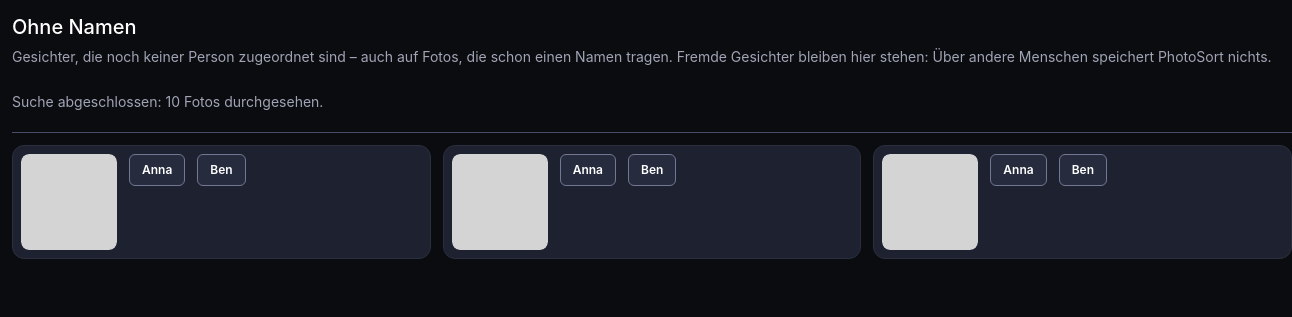
Test: UnnamedFacesGroup - Ablehnungen › nennt sonstige Fehler allgemein
Click the button with aria-label "Zuordnen: Anna".
click(157, 170)  # box [129,154,185,186]
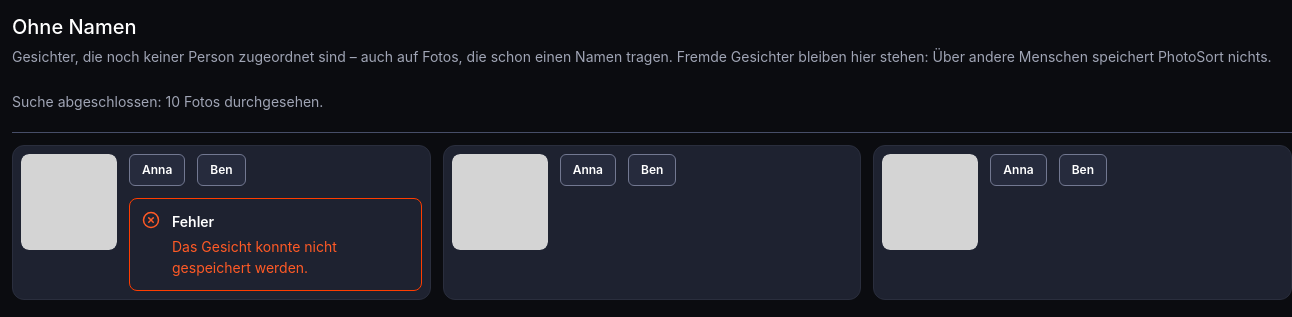
expect the message shows "Das Gesicht konnte nicht gespeichert werden.": met, box [172,238,337,276]
